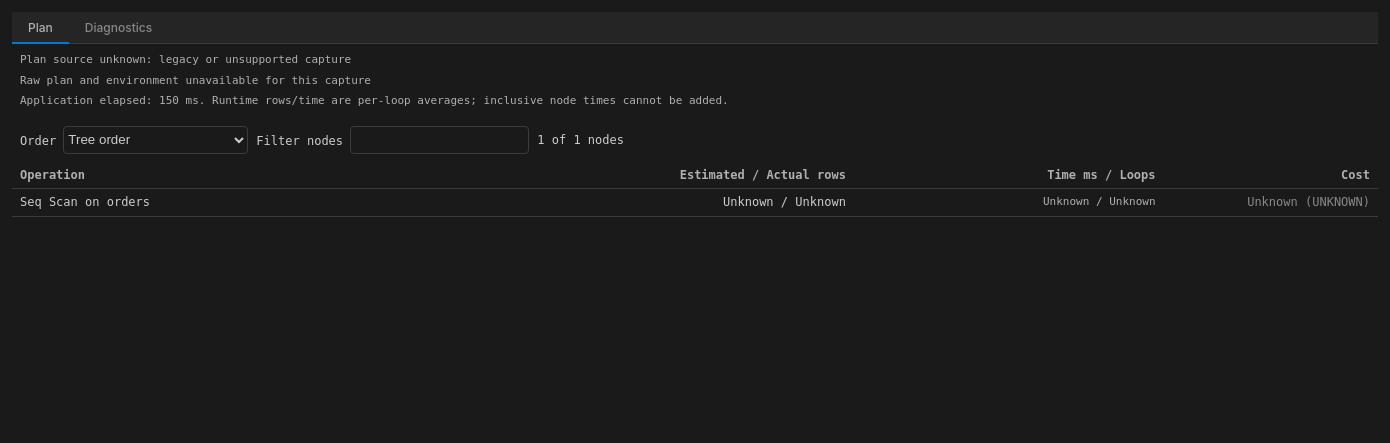
ResultsPanel › Diagnostics integration › passes findings to DiagnosticsPanel in performance mode
Switch to diagnostics tab
Step 1. Click the tab "Diagnostics" → (118, 28), box [69,12,168,44]
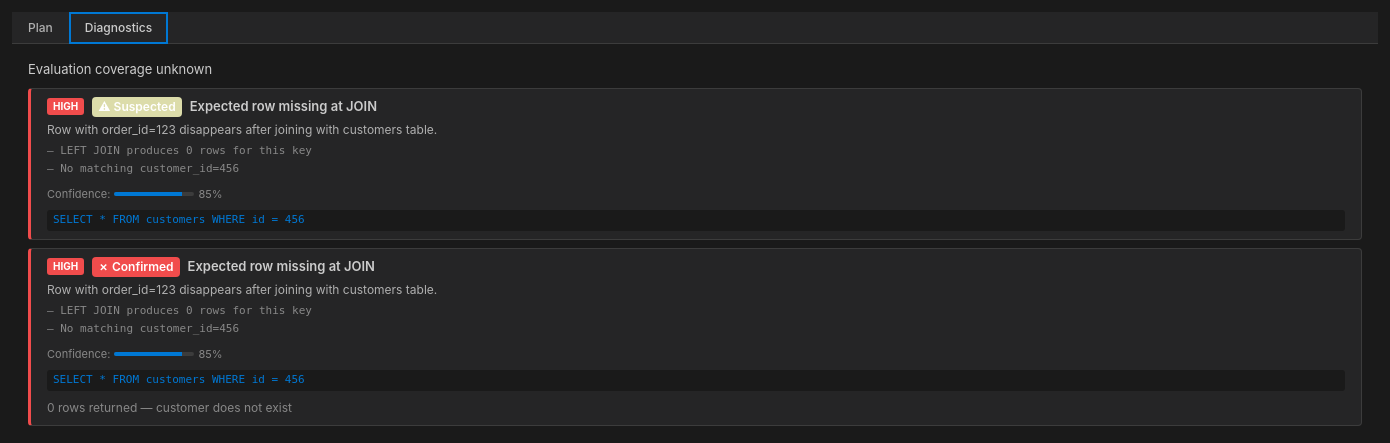
Expected: the text "Expected row missing at JOIN" is shown 2 times, [190,97,377,116]; [188,257,375,276]
